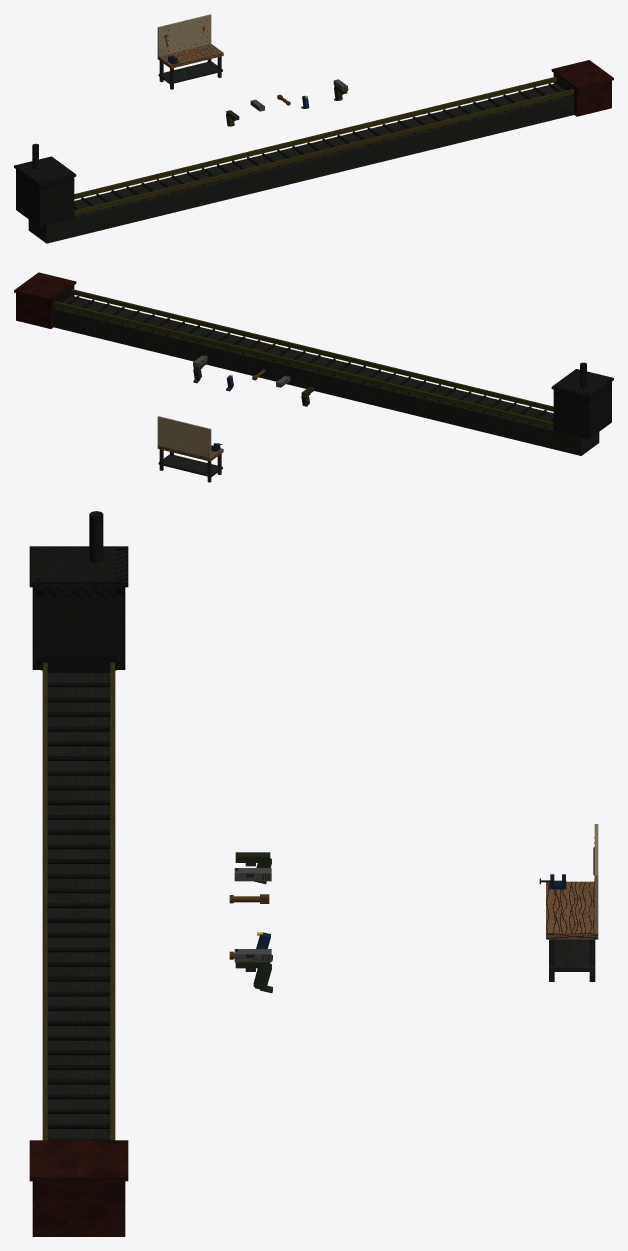
Rendered from sidearm.glb.
The picture shows the model from 3 angles, top to bottom: view 1: azimuth 30°, elevation 25°; view 2: azimuth 150°, elevation 25°; view 3: azimuth 270°, elevation 25°; orthographic projection. The views are drawn at different scales.
Parts seen in each view (by area): view 1: conveyor, bench; view 2: conveyor, bench; view 3: conveyor, bench, pistol.
Part boxes in pixels (x1=…): conveyor: x1=14, y1=60, x2=613, y2=243; bench: x1=157, y1=14, x2=223, y2=89; conveyor: x1=14, y1=272, x2=613, y2=455; bench: x1=157, y1=416, x2=223, y2=482; conveyor: x1=29, y1=511, x2=128, y2=1236; bench: x1=539, y1=824, x2=598, y2=981; pistol: x1=229, y1=949, x2=272, y2=993.
Size of the model in its own units: 22.9 by 3.35 by 9.8.
18 materials, 14 textured.
